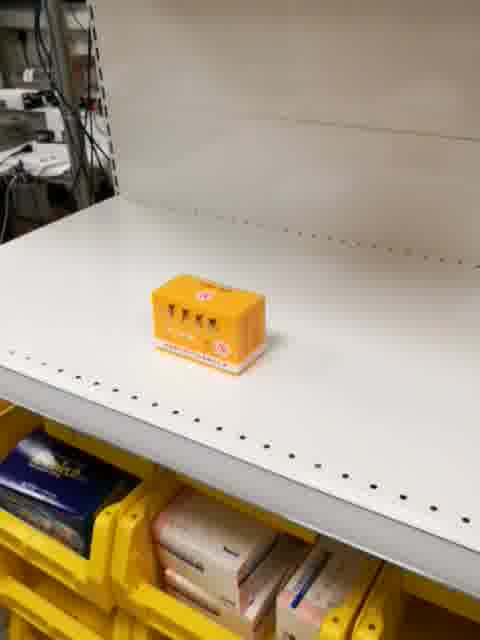jasminetea: (150, 272, 270, 376)
